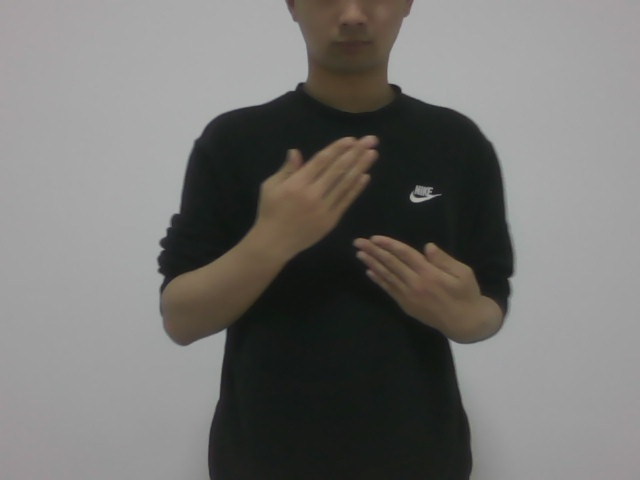tea: (242, 122, 482, 345)
